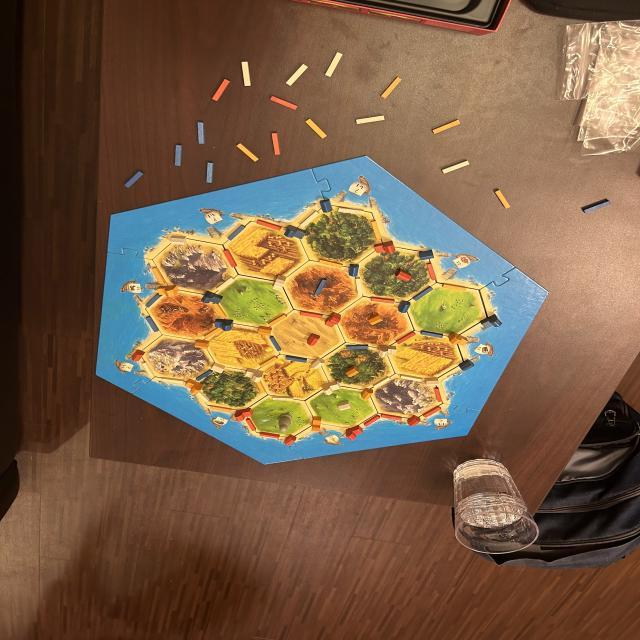blue-city: (479, 313, 502, 329), (284, 225, 307, 240), (200, 290, 222, 304), (213, 318, 234, 332)
blue-road: (582, 198, 610, 212), (124, 170, 142, 189), (226, 223, 246, 240), (412, 286, 432, 302), (145, 291, 162, 308), (145, 316, 160, 334), (194, 122, 206, 144), (313, 278, 327, 296), (268, 335, 282, 352), (204, 161, 214, 183), (419, 330, 444, 338), (345, 344, 369, 352), (284, 355, 308, 363), (174, 144, 182, 166), (196, 370, 213, 380)
blue-settlement: (458, 358, 474, 372), (397, 300, 411, 314), (319, 200, 334, 212), (418, 250, 433, 260), (348, 264, 359, 277)
orange-city: (447, 332, 469, 346), (184, 379, 204, 394), (156, 285, 179, 298), (311, 416, 322, 432)
orange-road: (376, 76, 402, 98), (234, 143, 260, 162), (306, 118, 328, 139), (431, 118, 459, 134), (492, 189, 512, 209), (150, 266, 166, 284), (318, 259, 343, 269), (441, 282, 466, 292), (370, 220, 382, 240), (258, 356, 278, 368), (268, 314, 286, 326), (205, 326, 222, 338), (209, 406, 232, 414)
orange-settlement: (345, 364, 361, 378), (367, 314, 384, 326), (359, 388, 374, 400), (193, 340, 210, 350), (257, 326, 272, 336)
red-city: (372, 240, 398, 253), (344, 424, 362, 442), (323, 312, 342, 328), (234, 408, 254, 422)
red-road: (268, 94, 300, 112), (212, 78, 230, 102), (256, 220, 284, 231), (222, 249, 237, 268), (269, 132, 281, 154), (396, 331, 416, 344), (299, 310, 324, 320), (424, 262, 437, 280), (422, 406, 442, 417), (363, 414, 381, 426), (381, 412, 402, 422), (370, 296, 395, 304), (258, 431, 280, 439), (434, 387, 443, 402), (246, 418, 256, 430)
red-settlement: (394, 270, 412, 282), (130, 349, 146, 362), (306, 332, 320, 346), (282, 434, 296, 446), (407, 415, 422, 426)
white-city: (242, 370, 265, 384), (377, 344, 398, 358), (322, 380, 342, 394), (270, 276, 286, 292)
white-road: (284, 64, 308, 85), (326, 52, 344, 77), (441, 158, 468, 174), (356, 114, 384, 126), (240, 62, 252, 87), (334, 206, 366, 215), (300, 212, 320, 226), (215, 278, 235, 290), (398, 374, 422, 383), (374, 377, 392, 389), (355, 278, 364, 296), (271, 396, 294, 402)
white-settlement: (424, 376, 441, 388), (308, 358, 326, 368), (335, 400, 352, 410), (169, 235, 186, 245), (210, 363, 226, 372)
